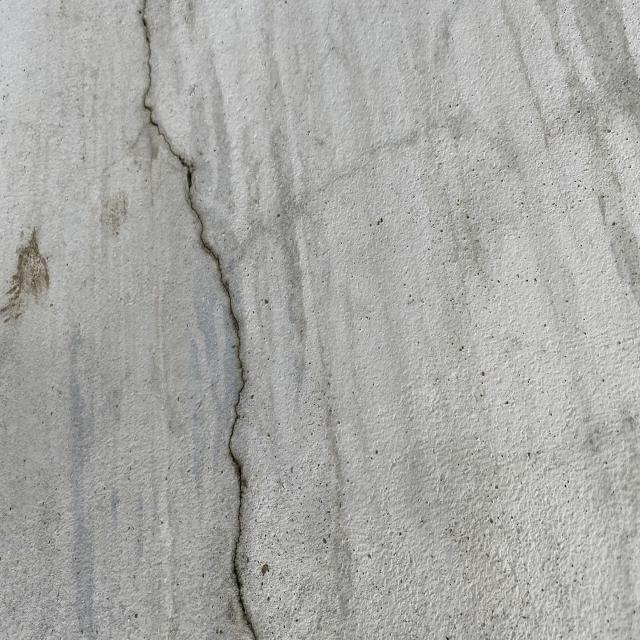SurfaceCrack: (105, 0, 296, 640)
